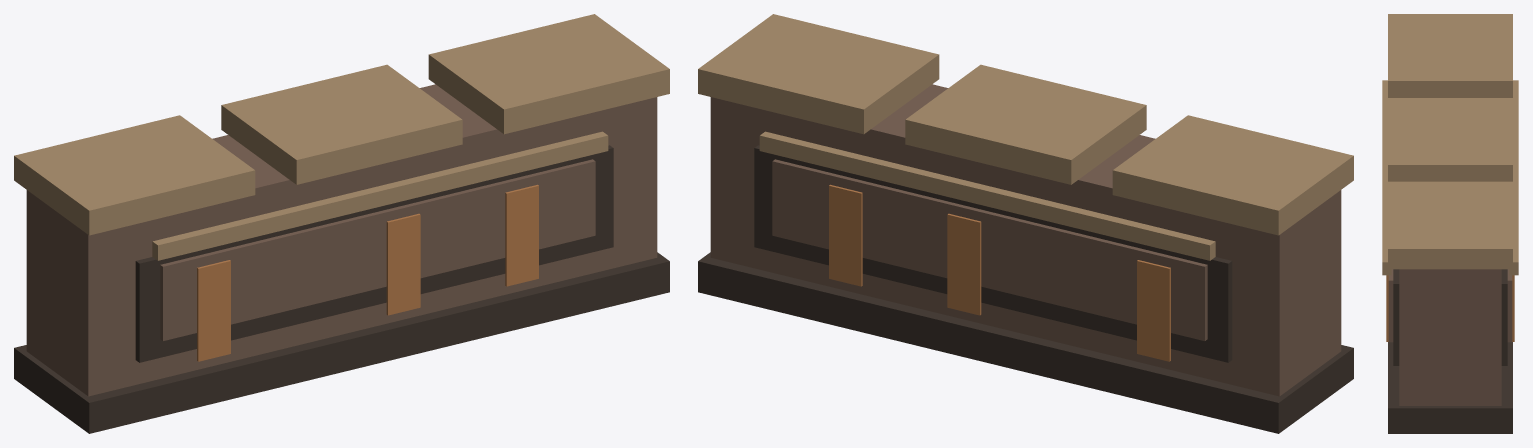
Rendered from foundry_wall_variant.glb.
The picture shows the model from 3 angles, left to right: view 1: azimuth 30°, elevation 25°; view 2: azimuth 150°, elevation 25°; view 3: azimuth 270°, elevation 25°; orthographic projection. The views are drawn at different scales.
Visible parts, largest first — view 1: foundry_wall_variant; view 2: foundry_wall_variant; view 3: foundry_wall_variant.
Boxes of the visible parts, x1,y1,x2,y2 form: foundry_wall_variant: (14,14,669,433); foundry_wall_variant: (698,14,1353,433); foundry_wall_variant: (1382,14,1518,433).
Size of the model in its own units: 1.96 by 0.72 by 0.48.
